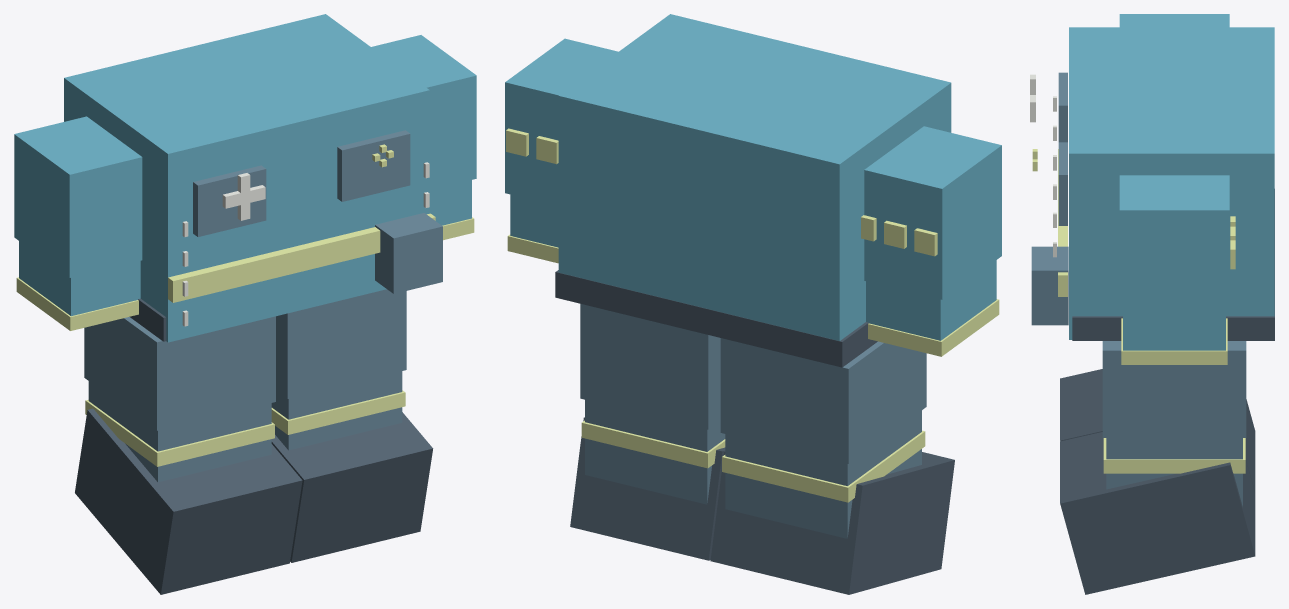
Rendered from paramedic-sky.glb.
3 renders of one model, left to right at view 1: azimuth 30°, elevation 25°; view 2: azimuth 150°, elevation 25°; view 3: azimuth 270°, elevation 25°, orthographic. The views are drawn at different scales.
Parts seen in each view (by area): view 1: jacket, shoe-Right, upper-sleeve-Right, trouser-Right, shoe-Left, trouser-Left, upper-sleeve-Left, lower-trouser-Right, reflective-band, lower-trouser-Left, lower-sleeve-Right, medical-pouch (+8 smaller); view 2: jacket, trouser-Right, shoe-Right, upper-sleeve-Right, trouser-Left, lower-trouser-Right, shoe-Left, medical-belt, upper-sleeve-Left, lower-trouser-Left, lower-sleeve-Right, reflective-leg-Right (+4 smaller); view 3: jacket, shoe-Left, upper-sleeve-Left, trouser-Left, lower-sleeve-Left, lower-trouser-Left, shoe-Right, medical-pouch, medical-belt, reflective-leg-Left, cuff-Left, upper-sleeve-Right (+3 smaller).
Part boxes in pixels (<box>): jacket: <box>64,14,429,342</box>; shoe-Right: <box>75,408,302,594</box>; upper-sleeve-Right: <box>14,116,142,277</box>; trouser-Right: <box>84,316,275,430</box>; shoe-Left: <box>271,412,433,562</box>; trouser-Left: <box>276,289,406,398</box>; upper-sleeve-Left: <box>371,35,476,189</box>; lower-trouser-Right: <box>88,381,271,482</box>; reflective-band: <box>168,213,435,302</box>; lower-trouser-Left: <box>271,371,402,450</box>; lower-sleeve-Right: <box>19,241,140,316</box>; medical-pouch: <box>375,213,442,293</box>; jacket: <box>558,14,951,340</box>; trouser-Right: <box>720,338,926,463</box>; shoe-Right: <box>710,451,954,594</box>; upper-sleeve-Right: <box>864,126,1001,299</box>; trouser-Left: <box>580,304,720,429</box>; lower-trouser-Right: <box>725,410,921,538</box>; shoe-Left: <box>570,417,725,560</box>; medical-belt: <box>555,270,877,367</box>; upper-sleeve-Left: <box>505,38,618,205</box>; lower-trouser-Left: <box>585,400,725,504</box>; lower-sleeve-Right: <box>866,260,996,340</box>; reflective-leg-Right: <box>722,430,925,502</box>; jacket: <box>1069,27,1274,339</box>; shoe-Left: <box>1060,432,1255,594</box>; upper-sleeve-Left: <box>1119,175,1229,312</box>; trouser-Left: <box>1102,341,1246,437</box>; lower-sleeve-Left: <box>1123,312,1225,350</box>; lower-trouser-Left: <box>1106,438,1242,506</box>; shoe-Right: <box>1060,369,1255,492</box>; medical-pouch: <box>1031,246,1068,325</box>; medical-belt: <box>1072,189,1274,340</box>; reflective-leg-Left: <box>1103,438,1245,473</box>; cuff-Left: <box>1121,318,1227,364</box>; upper-sleeve-Right: <box>1119,14,1229,27</box>.
Size of the model in its own units: 1.07 by 1.13 by 0.566.
